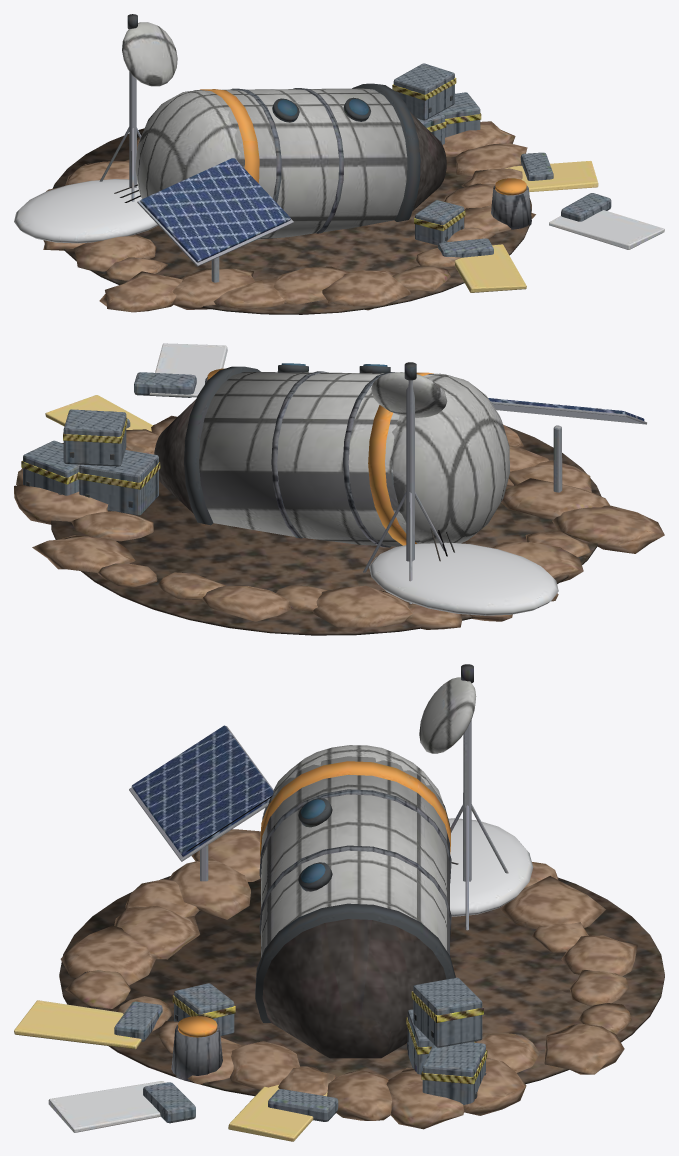
The model's file is pod.glb.
The picture shows the model from 3 angles, top to bottom: view 1: azimuth 30°, elevation 25°; view 2: azimuth 150°, elevation 25°; view 3: azimuth 270°, elevation 25°; orthographic projection. The views are drawn at different scales.
Visible parts, largest first — view 1: pod; view 2: pod; view 3: pod.
Boxes of the visible parts, x1,y1,x2,y2 form: pod: (14, 14, 664, 314); pod: (14, 343, 664, 635); pod: (14, 664, 664, 1141).
Size of the model in its own units: 5.61 by 2.45 by 4.94.
Materials: 1 (1 with a texture image).
